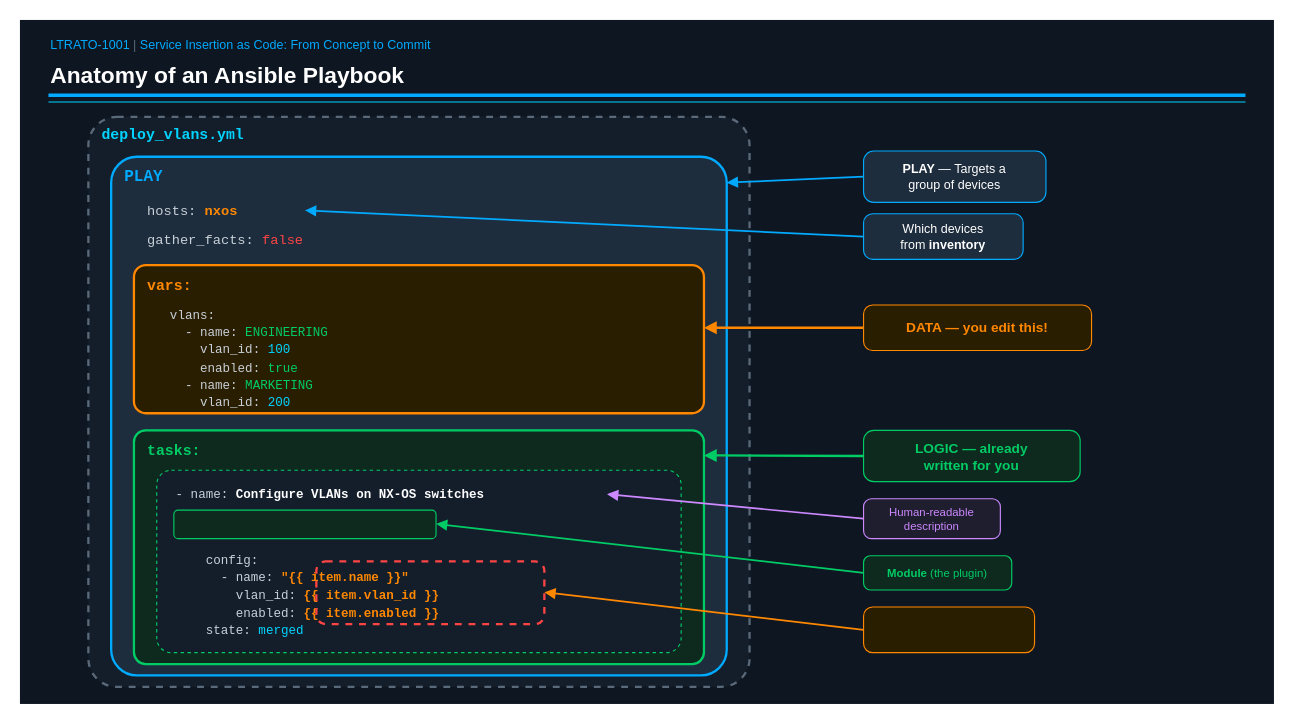
Image size: 1293x723. Some labels were removed from this diagram. Each missing label, with the box of its shape:
cisco.nxos.nxos_vlans:: (173, 509, 436, 539)
{{ variable }} Variable substitution: (862, 606, 1035, 653)
